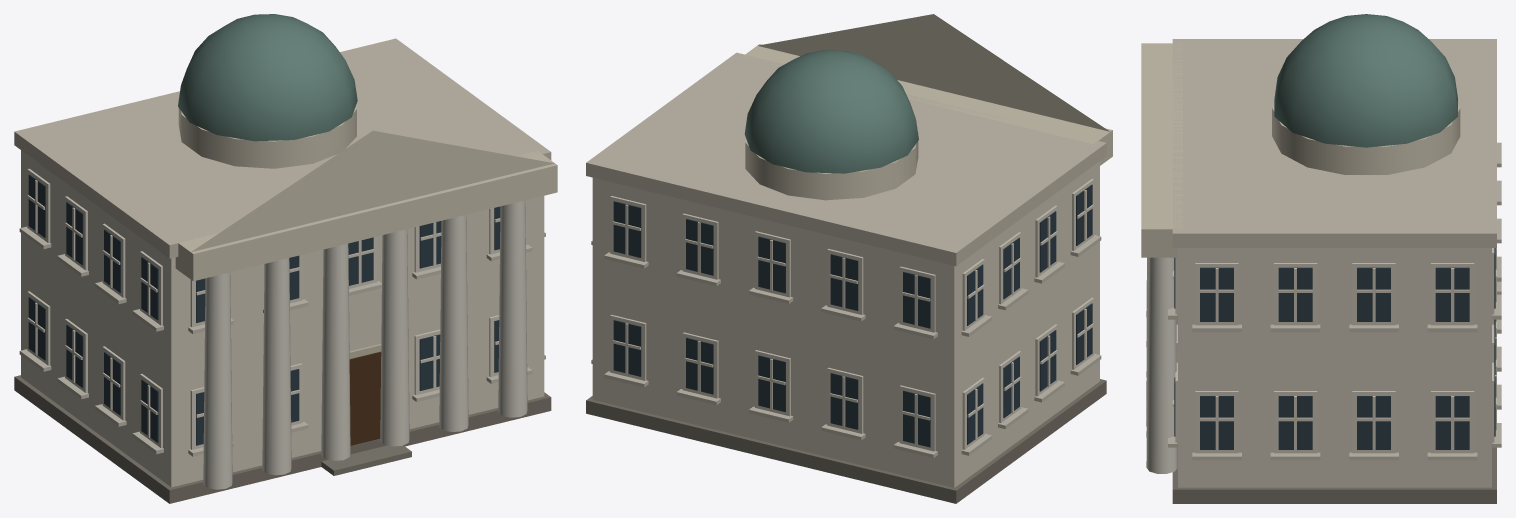
File: procedural_polytechnic@5.glb
The picture shows the model from 3 angles, left to right: view 1: azimuth 30°, elevation 25°; view 2: azimuth 150°, elevation 25°; view 3: azimuth 270°, elevation 25°; orthographic projection. The views are drawn at different scales.
Visible parts, largest first — view 1: part_0; view 2: part_0; view 3: part_0.
Boxes of the visible parts, bbox=[...] form: part_0: bbox=[14, 14, 557, 503]; part_0: bbox=[586, 14, 1112, 503]; part_0: bbox=[1141, 14, 1501, 503].
Size of the model in its own units: 8.98 by 8.1 by 6.89.
